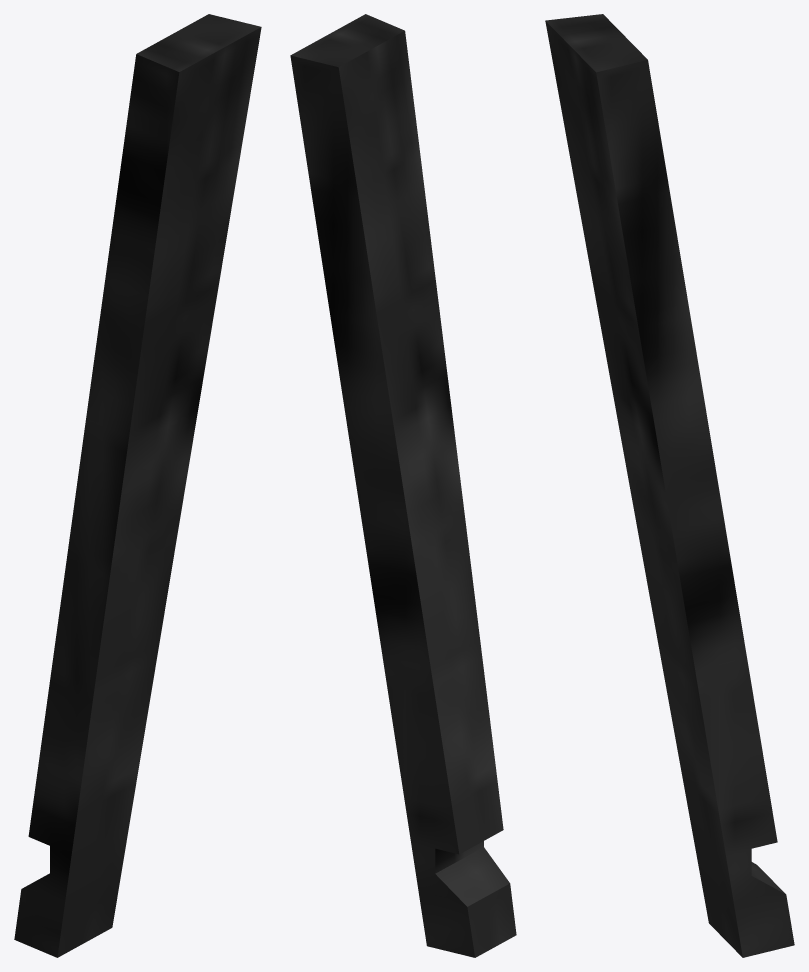
File: original-8.obj
3 renders of one model, left to right at view 1: azimuth 30°, elevation 25°; view 2: azimuth 210°, elevation 25°; view 3: azimuth 270°, elevation 25°, orthographic. The views are drawn at different scales.
Visible parts, largest first — view 1: Group_53_2/Group_53/mesh88/mesh88-geometry#mesh88-geometry; view 2: Group_53_2/Group_53/mesh88/mesh88-geometry#mesh88-geometry; view 3: Group_53_2/Group_53/mesh88/mesh88-geometry#mesh88-geometry.
Part boxes in pixels (bbox=[...]): Group_53_2/Group_53/mesh88/mesh88-geometry#mesh88-geometry: bbox=[14, 14, 261, 957]; Group_53_2/Group_53/mesh88/mesh88-geometry#mesh88-geometry: bbox=[290, 14, 516, 957]; Group_53_2/Group_53/mesh88/mesh88-geometry#mesh88-geometry: bbox=[545, 14, 794, 957].
Size of the model in its own units: 0.1658 by 0.9253 by 0.2271.
